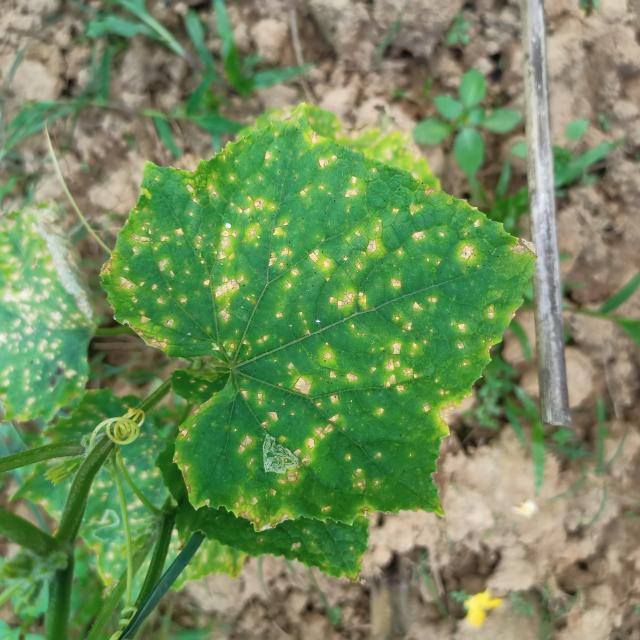disease_cucumber: (111, 134, 510, 522)
